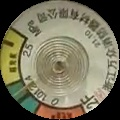green: (7, 79, 41, 115)
needle: (14, 78, 41, 101)
red: (35, 101, 91, 120)
yellow: (1, 29, 28, 85)
